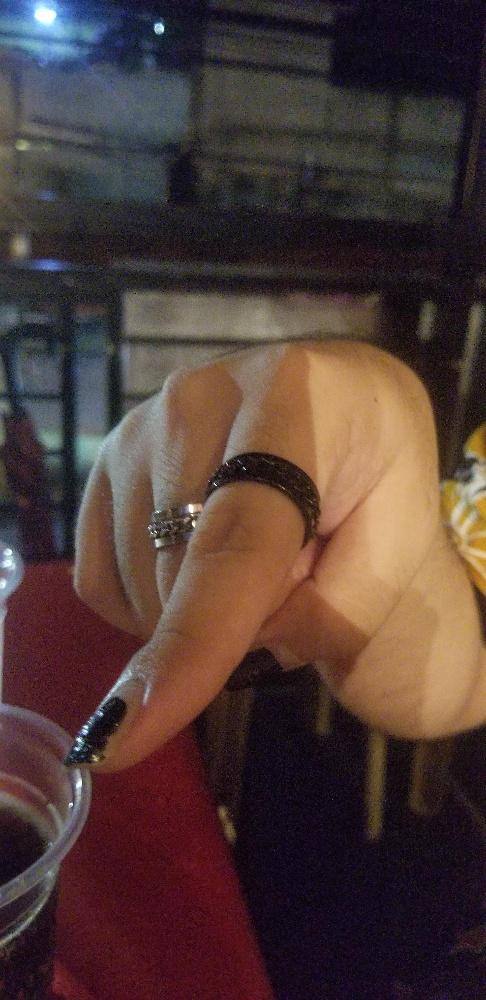z: (64, 343, 436, 783)
